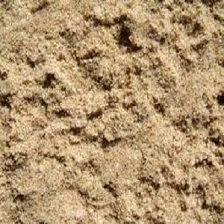sandy_soil: (6, 22, 213, 211)
